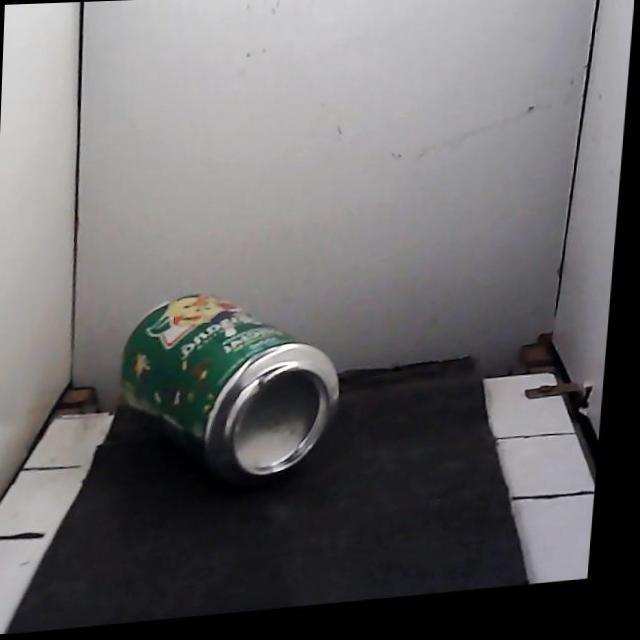metal: (121, 293, 338, 483)
